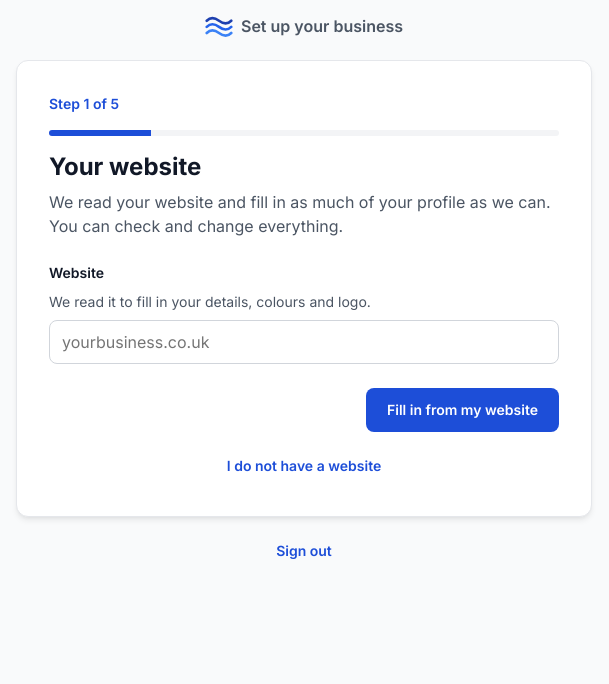
it: onboarding › says when a website had nothing to fill in, and treats a failed request as unreadable
expect the text "Step 1 of 5" is shown: met, box [49,95,119,112]
Type "acme.co.uk" into the field with test id "website". click: (304, 342)
box: [49,320,559,364]
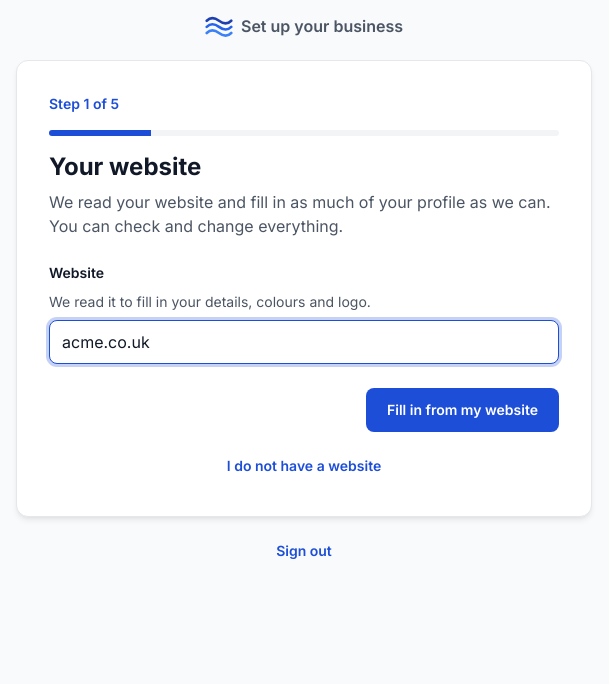
Click the button with test id "next-step". click: (462, 410)
box: [366,388,559,432]
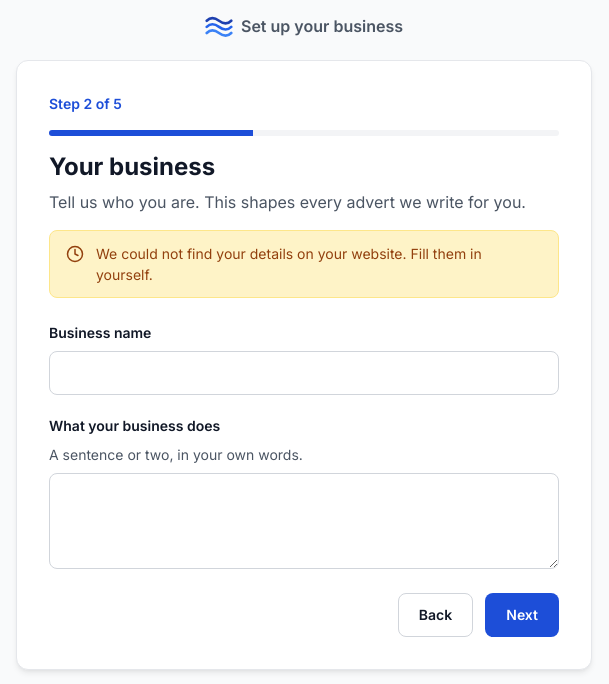
expect the text "Step 2 of 5" is shown: met, box [49,95,122,112]
expect the message with test id "scan-notice" shows "We could not find your details": met, box [96,245,482,283]
expect the field with test id "business-name" is empty: met, box [49,351,559,395]
